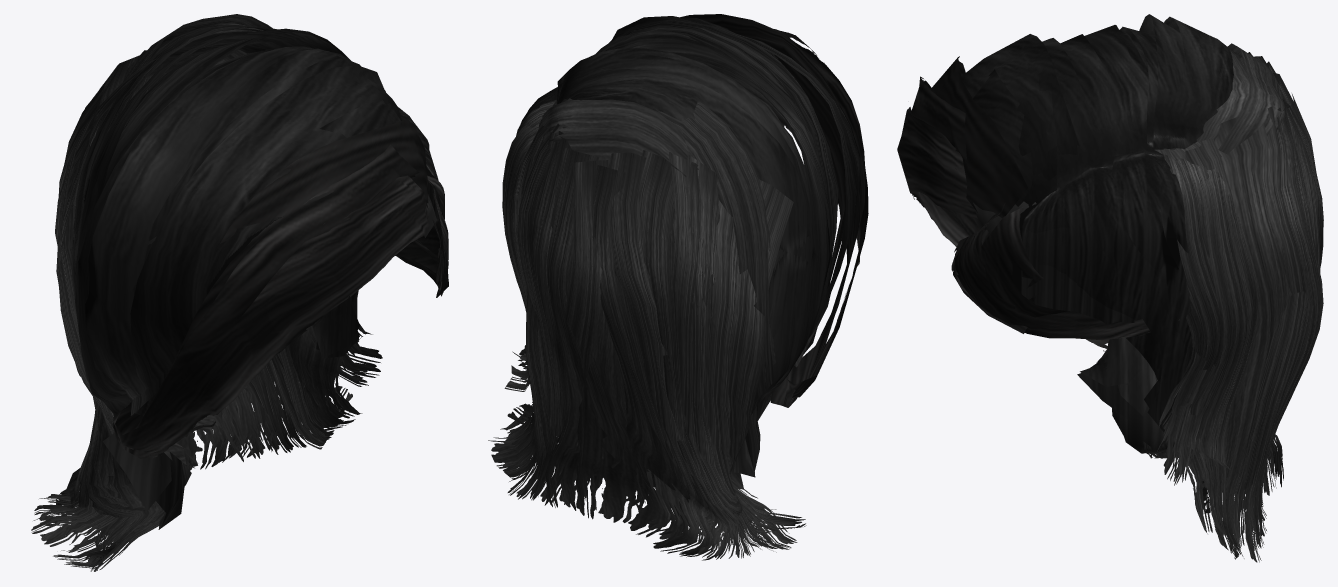
The model's file is X_Beard.fbx.
The picture shows the model from 3 angles, left to right: view 1: azimuth 30°, elevation 25°; view 2: azimuth 150°, elevation 25°; view 3: azimuth 270°, elevation 25°; orthographic projection. The views are drawn at different scales.
Parts seen in each view (by area): view 1: Hair.001; view 2: Hair.001; view 3: Hair.001.
Boxes of the visible parts, <box> form: Hair.001: <box>31,14,448,571</box>; Hair.001: <box>488,14,868,560</box>; Hair.001: <box>897,14,1323,562</box>.
Bounding box in the file's own units: 20.12 × 28.1 × 21.71.
